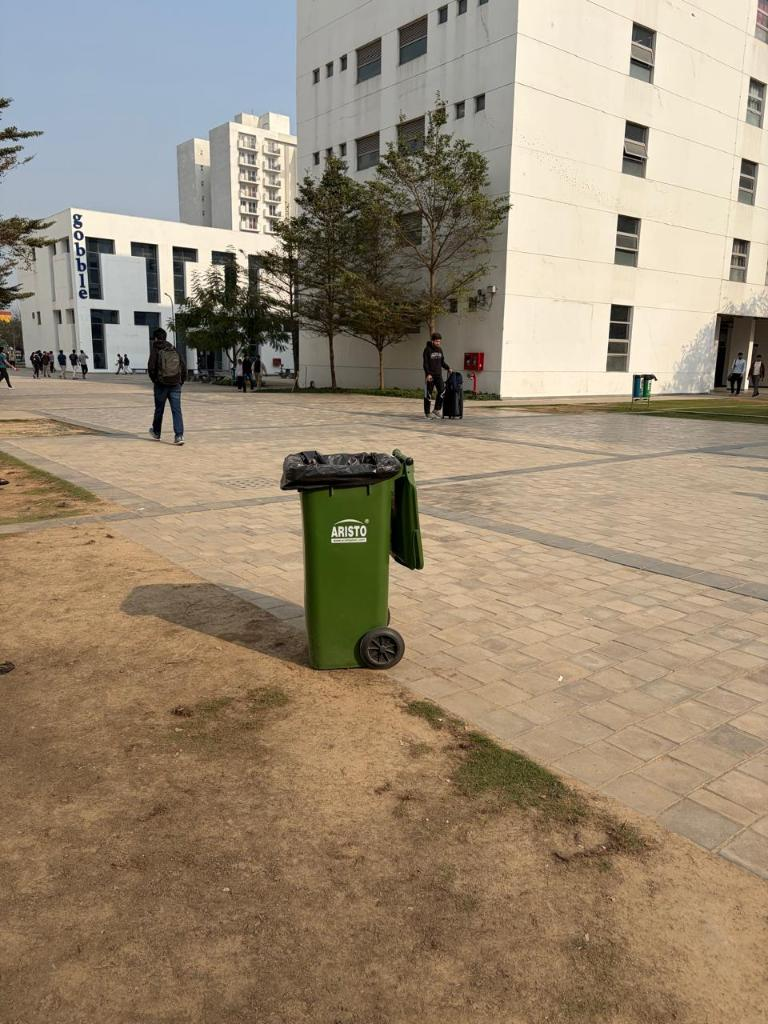dustbin: (281, 440, 434, 687)
